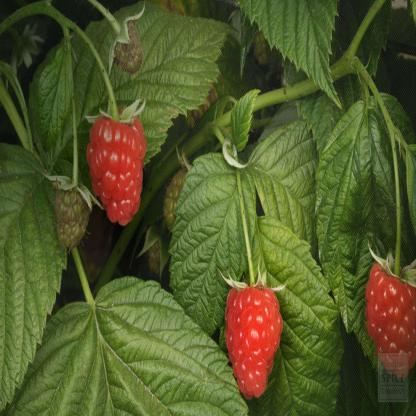Raspberry leaf: (26, 289, 254, 415), (315, 90, 416, 333), (104, 1, 236, 169), (0, 139, 78, 381), (249, 211, 336, 415), (170, 142, 250, 330)
